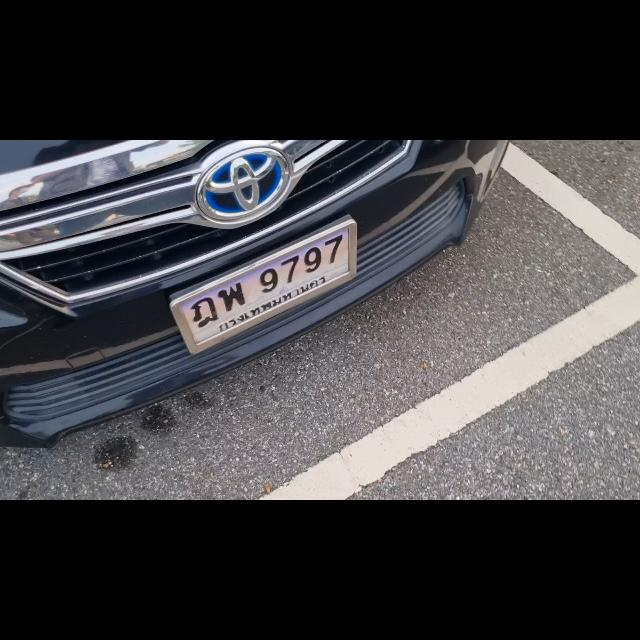licenseplate: (170, 220, 358, 356)
